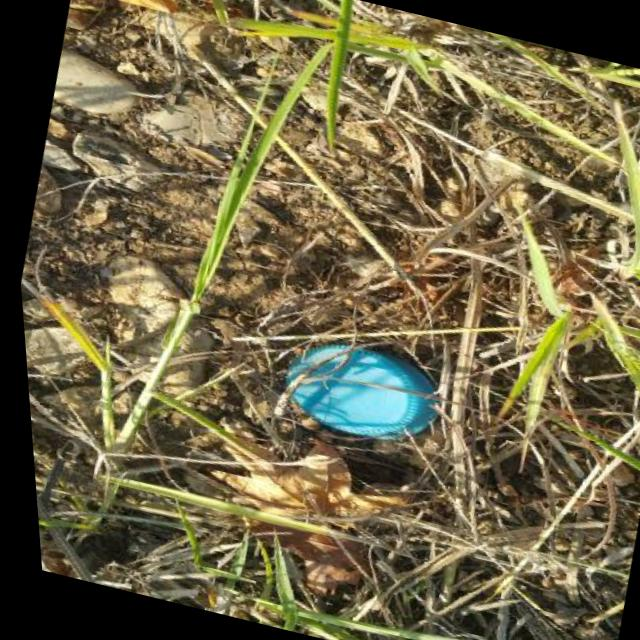plastic: (346, 216, 484, 393)
